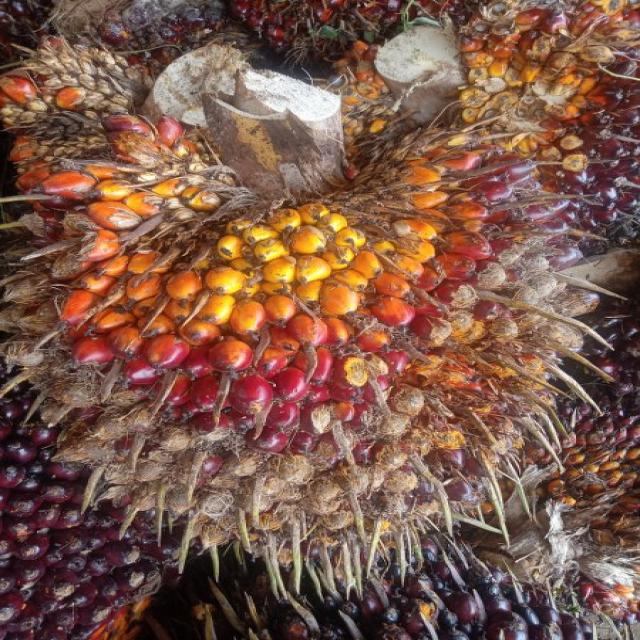fraksi 3: (19, 58, 589, 620)
